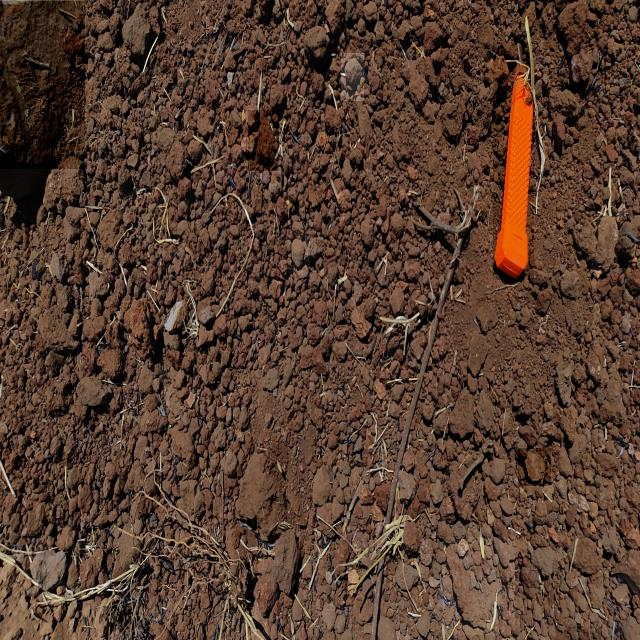Orange_hammer: (493, 42, 534, 280)
rock: (0, 1, 85, 169), (443, 537, 515, 635), (235, 442, 288, 538), (556, 0, 604, 92), (402, 50, 435, 117), (248, 110, 279, 171), (594, 213, 618, 275), (71, 367, 102, 412), (518, 448, 551, 486), (341, 53, 364, 101), (288, 235, 310, 275)
